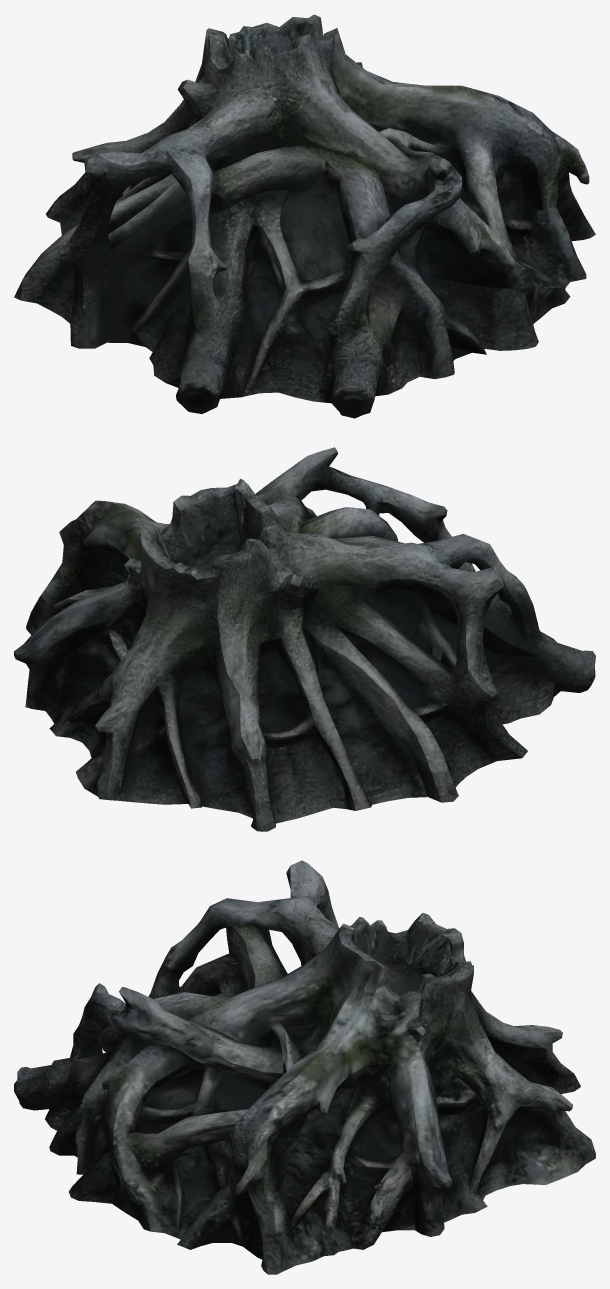
The model's file is roots.glb.
3 renders of one model, top to bottom at view 1: azimuth 30°, elevation 25°; view 2: azimuth 150°, elevation 25°; view 3: azimuth 270°, elevation 25°, orthographic.
Visible parts, largest first — view 1: model; view 2: model; view 3: model.
Boxes of the visible parts, box(x1,y1,x2,y2) form: model: box(14, 14, 595, 418); model: box(14, 447, 595, 831); model: box(14, 860, 595, 1274).
Size of the model in its own units: 2.2 by 1 by 2.21.
1 material, 1 textured.
